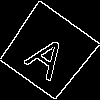A: (23, 25, 78, 83)
